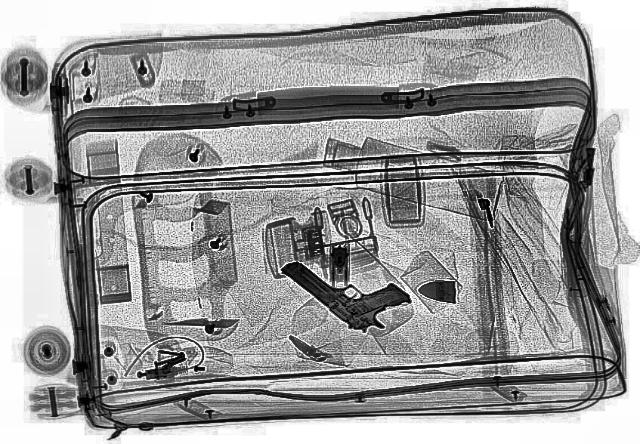Gun: (276, 238, 426, 338)
